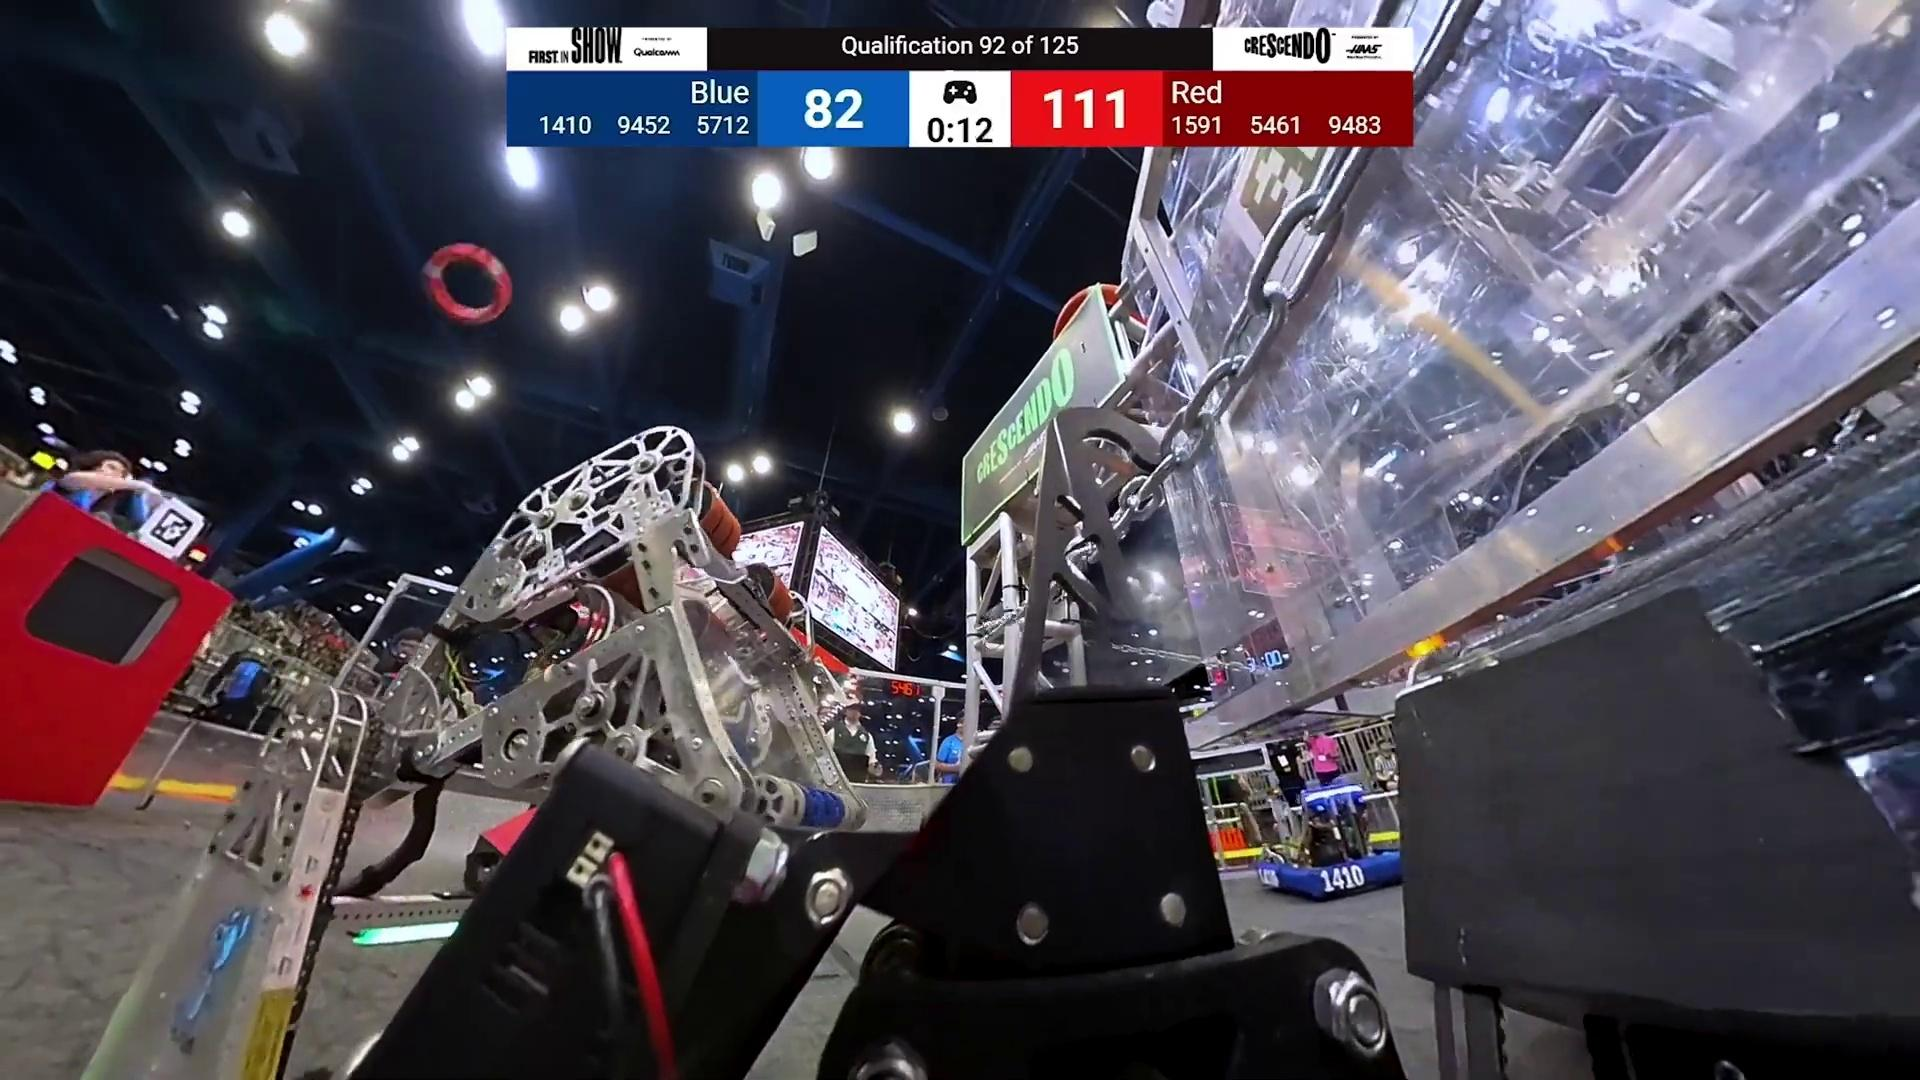robot: (1254, 782, 1403, 901)
